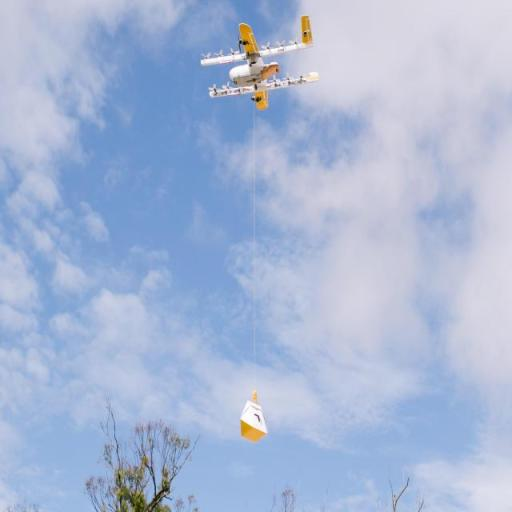uav: (197, 10, 331, 108)
